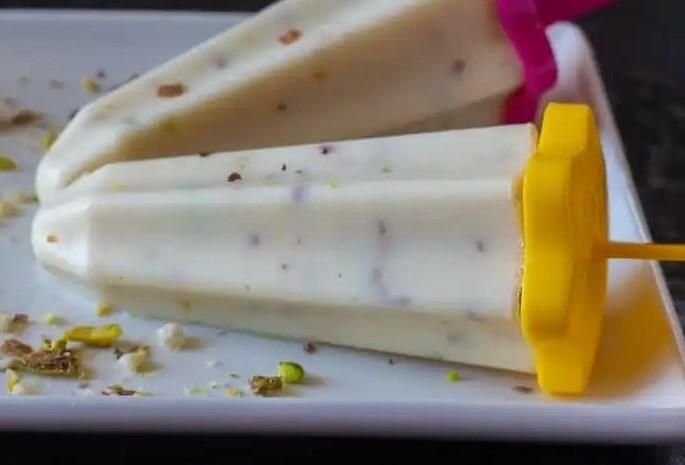Kulfi: (31, 127, 547, 379), (33, 0, 526, 207)
